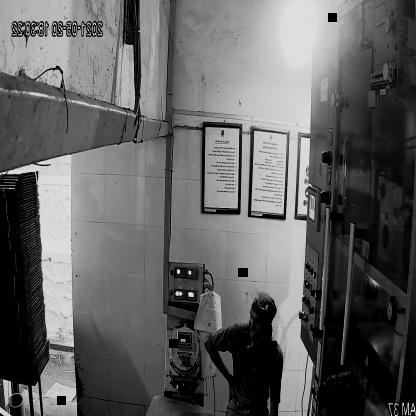no_goggles: (244, 310, 270, 331)
